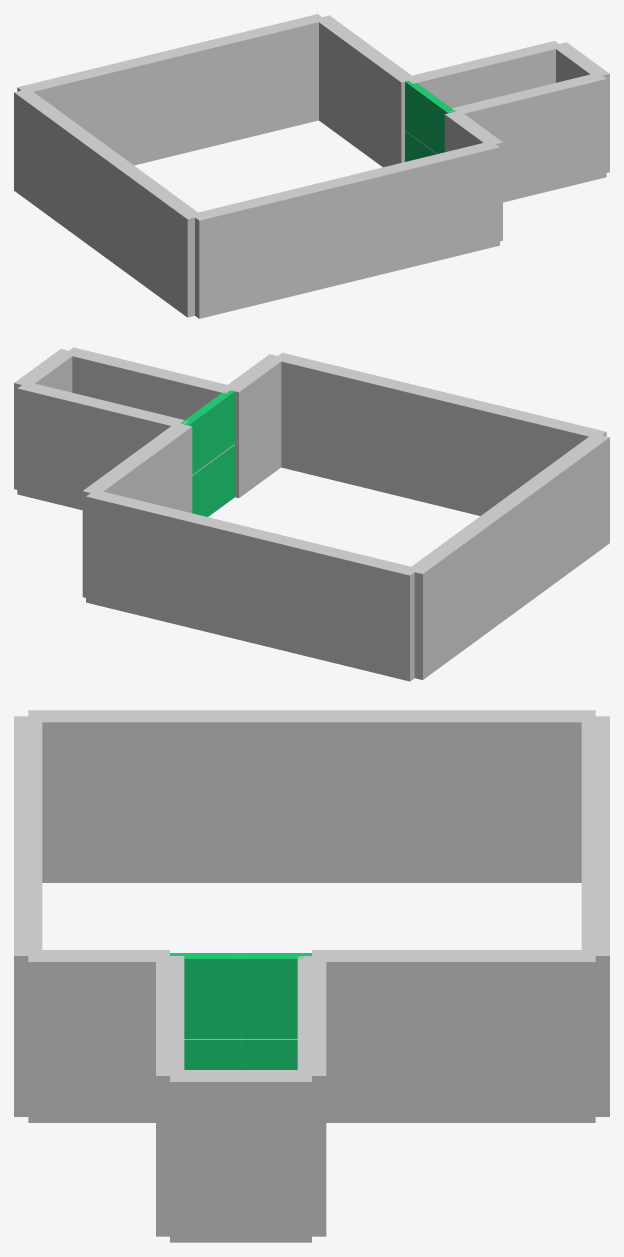
Rendered from room.glb.
3 renders of one model, top to bottom at view 1: azimuth 30°, elevation 25°; view 2: azimuth 150°, elevation 25°; view 3: azimuth 270°, elevation 25°, orthographic. The views are drawn at different scales.
Parts seen in each view (by area): view 1: Wall_8m.004-col, Wall_8m.001-col, Wall_8m.002-col, Wall_4m.003-col, Wall_4m.001-col, Wall_4m.002-col, Wall_2m.003-col, Wall_2m.001-col, Wall_2m.002-col; view 2: Wall_8m.001-col, Wall_8m.004-col, Wall_8m.002-col, Wall_4m.002-col, Wall_4m.003-col, Wall_4m.001-col, Wall_2m.001-col, Wall_2m.003-col, Wall_2m.002-col; view 3: Wall_8m.002-col, Wall_4m.001-col, Wall_2m.002-col, Wall_2m.001-col, Wall_2m.003-col, Wall_8m.001-col, Wall_8m.004-col, Wall_4m.002-col, Wall_4m.003-col.
Boxes of the visible parts, x1,y1,x2,y2 form: Wall_8m.004-col: (195,141,499,318); Wall_8m.001-col: (17,14,325,165); Wall_8m.002-col: (14,90,201,317); Wall_4m.003-col: (451,72,606,202); Wall_4m.001-col: (319,15,415,167); Wall_4m.002-col: (408,41,562,108); Wall_2m.003-col: (405,80,455,161); Wall_2m.001-col: (444,110,502,241); Wall_2m.002-col: (552,42,609,172); Wall_8m.001-col: (86,489,418,681); Wall_8m.004-col: (273,352,606,515); Wall_8m.002-col: (408,433,609,679); Wall_4m.002-col: (17,382,188,510); Wall_4m.003-col: (65,347,234,419); Wall_4m.001-col: (82,422,192,597); Wall_2m.001-col: (223,354,285,498); Wall_2m.003-col: (180,390,234,516); Wall_2m.002-col: (14,349,75,489); Wall_8m.002-col: (28,710,595,882); Wall_4m.001-col: (312,950,595,1122); Wall_2m.002-col: (170,1070,311,1242); Wall_2m.001-col: (28,950,169,1122); Wall_2m.003-col: (170,953,311,1069); Wall_8m.001-col: (581,716,609,1116); Wall_8m.004-col: (14,716,42,1116); Wall_4m.002-col: (297,956,326,1236); Wall_4m.003-col: (156,956,184,1236).
Size of what is drawn, in the model's own units: 12.4 by 2.5 by 8.4.
1 material, 1 textured.
